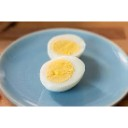begg: (41, 59, 84, 88), (47, 35, 83, 56)
